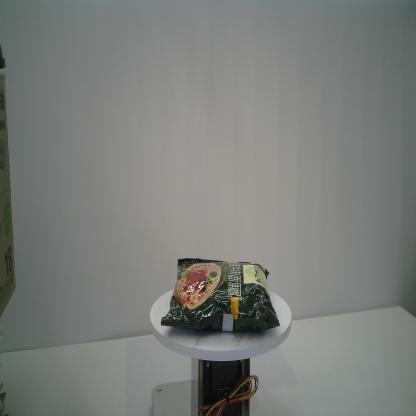Instant Noodles: (158, 256, 282, 337)
